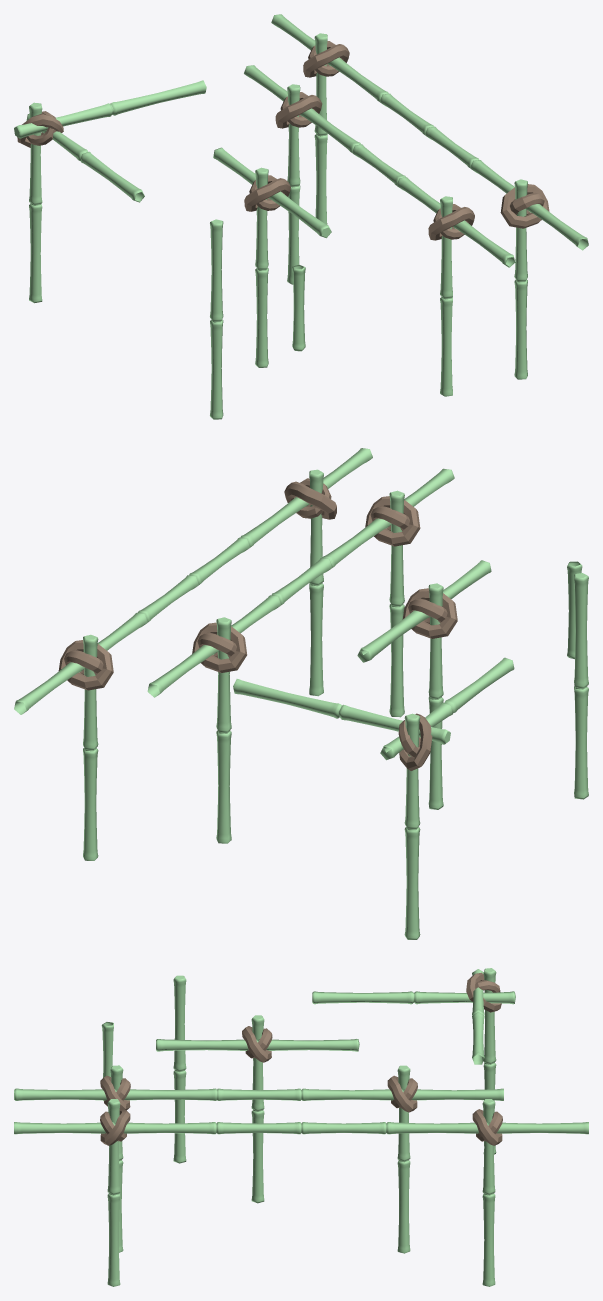
File: bamboo_assets.fbx
3 renders of one model, top to bottom at view 1: azimuth 30°, elevation 25°; view 2: azimuth 150°, elevation 25°; view 3: azimuth 270°, elevation 25°, orthographic. The views are drawn at different scales.
Visible parts, largest first — view 1: bamboo_railing_02, bamboo_railing_03, bamboo_railing_corner, bamboo_railing_01, bamboo_piece_02, bamboo_piece_01; view 2: bamboo_railing_02, bamboo_railing_03, bamboo_railing_corner, bamboo_railing_01, bamboo_piece_02, bamboo_piece_01; view 3: bamboo_railing_02, bamboo_railing_03, bamboo_railing_corner, bamboo_railing_01, bamboo_piece_02, bamboo_piece_01.
Boxes of the visible parts, x1,y1,x2,y2 form: bamboo_railing_02: (271, 14, 588, 379); bamboo_railing_03: (244, 65, 515, 396); bamboo_railing_corner: (14, 80, 206, 303); bamboo_railing_01: (213, 147, 331, 367); bamboo_piece_02: (210, 219, 223, 419); bamboo_piece_01: (292, 264, 305, 351); bamboo_railing_02: (14, 448, 372, 860); bamboo_railing_03: (147, 468, 454, 843); bamboo_railing_corner: (233, 657, 514, 939); bamboo_railing_01: (357, 560, 491, 809); bamboo_piece_02: (574, 573, 588, 799); bamboo_piece_01: (567, 561, 582, 659); bamboo_railing_02: (14, 1099, 588, 1286); bamboo_railing_03: (14, 1065, 503, 1253); bamboo_railing_corner: (312, 968, 515, 1154); bamboo_railing_01: (156, 1015, 359, 1203); bamboo_piece_02: (173, 975, 186, 1163); bamboo_piece_01: (101, 1022, 113, 1100).
Bounding box in the file's own units: 209 × 117 × 329.
